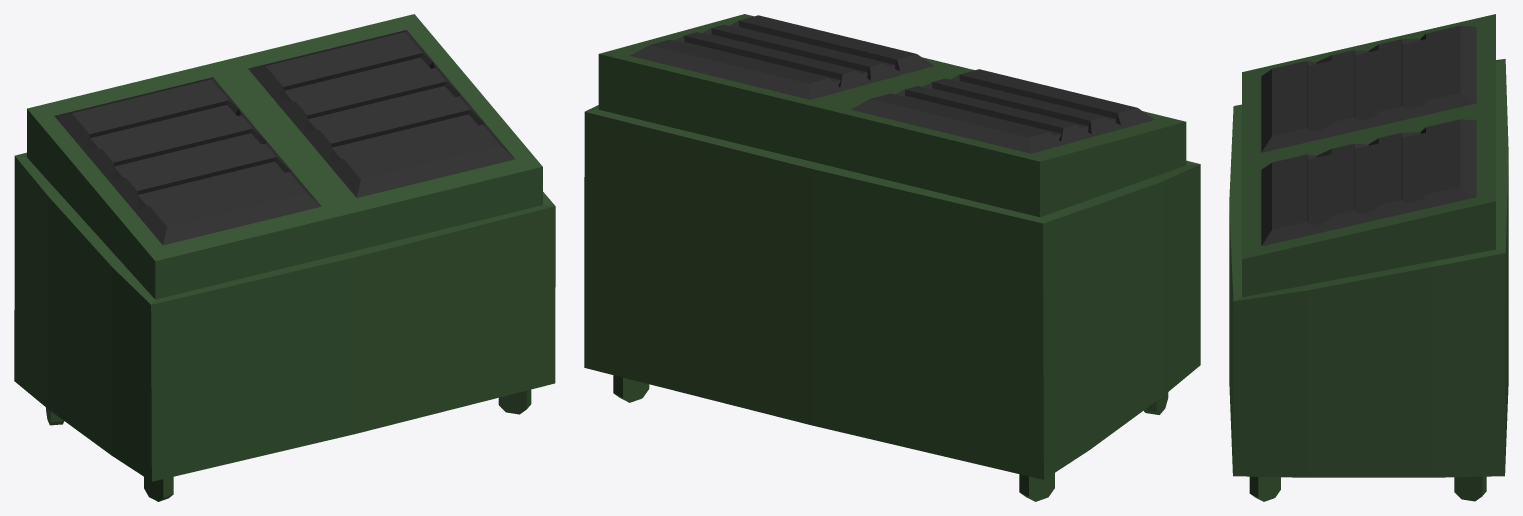
Rendered from Conteiner_2.fbx.
3 renders of one model, left to right at view 1: azimuth 30°, elevation 25°; view 2: azimuth 150°, elevation 25°; view 3: azimuth 270°, elevation 25°, orthographic. The views are drawn at different scales.
Parts seen in each view (by area): view 1: CONTAINER1; view 2: CONTAINER1; view 3: CONTAINER1.
Part boxes in pixels (bbox=[...]): CONTAINER1: bbox=[14, 14, 555, 501]; CONTAINER1: bbox=[584, 14, 1200, 501]; CONTAINER1: bbox=[1229, 14, 1508, 501].
Size of the model in its own units: 0.9968 by 0.5948 by 0.7182.
